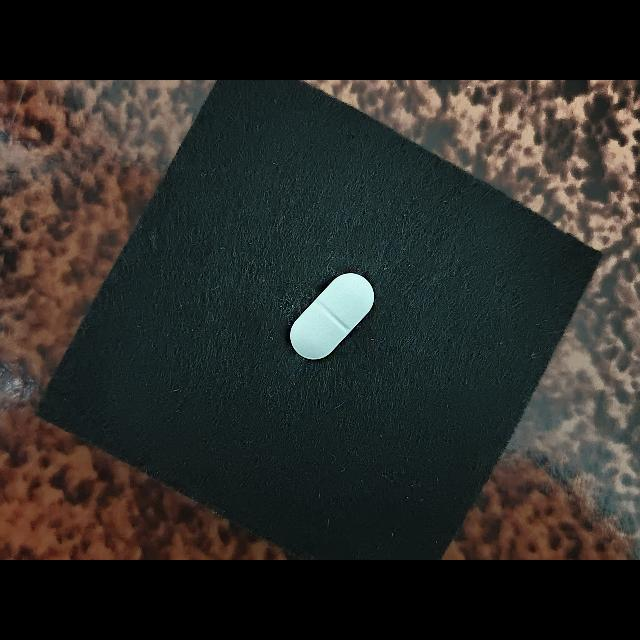Intact Pill: (290, 273, 375, 360)
